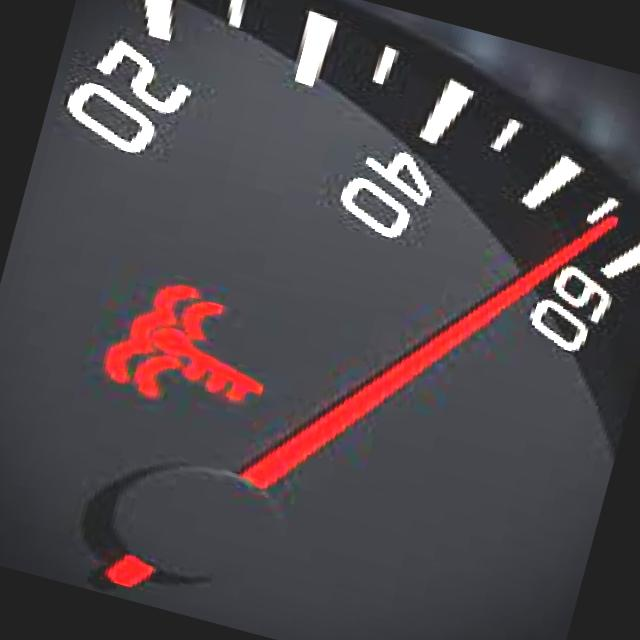kontrolka: (69, 248, 308, 448)
